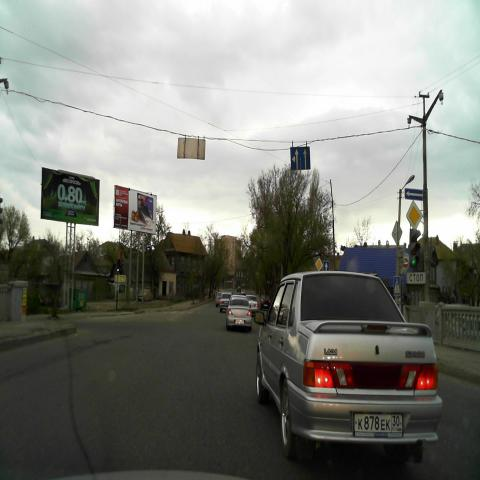5_7_2: (404, 188, 423, 200)
